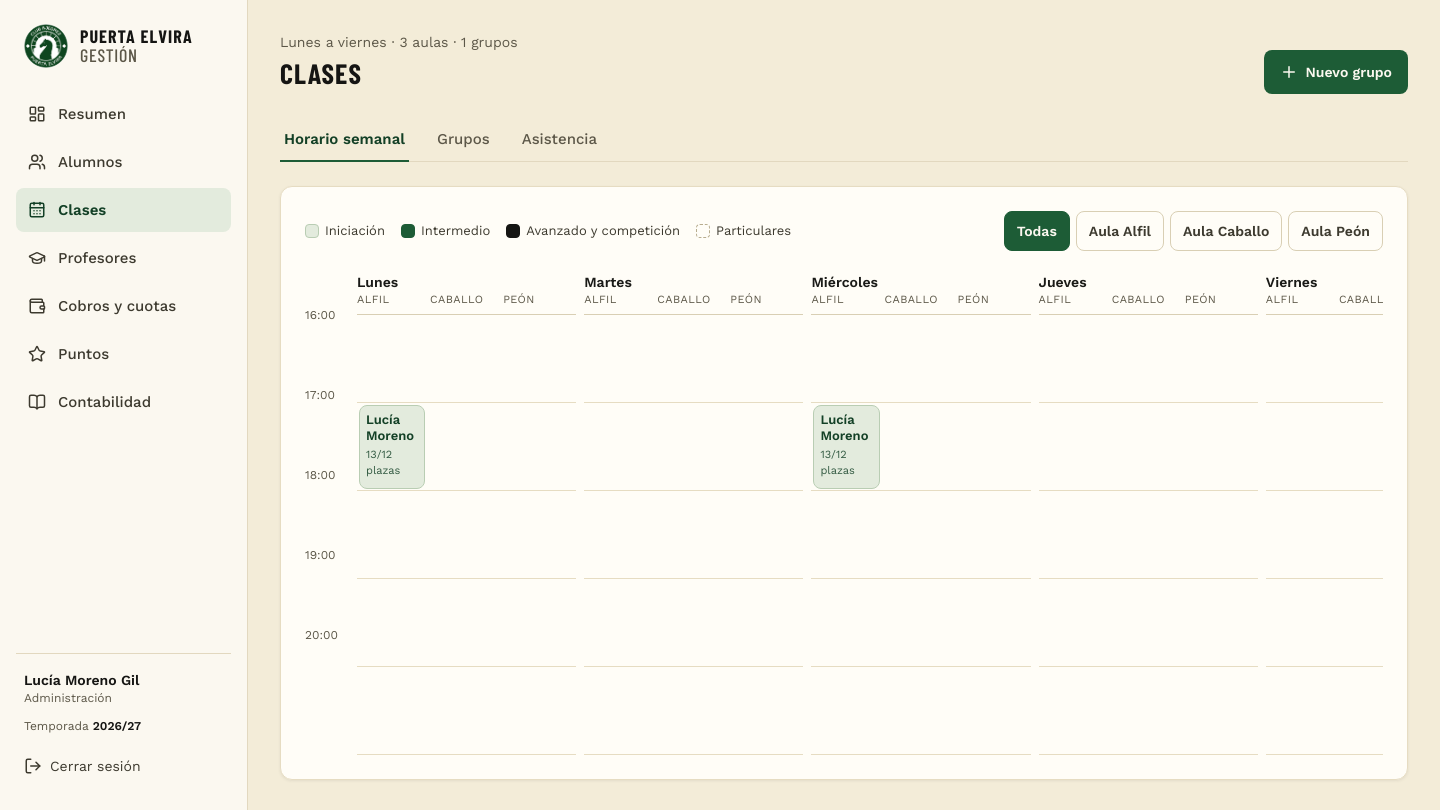
it: Clases › should list groups with level, schedule, plan and an over capacity warning
What coordinates should you click on to do the following:
click the tab "Grupos"
I would click on:
 (463, 140)
Its box is [433,118,494,162].
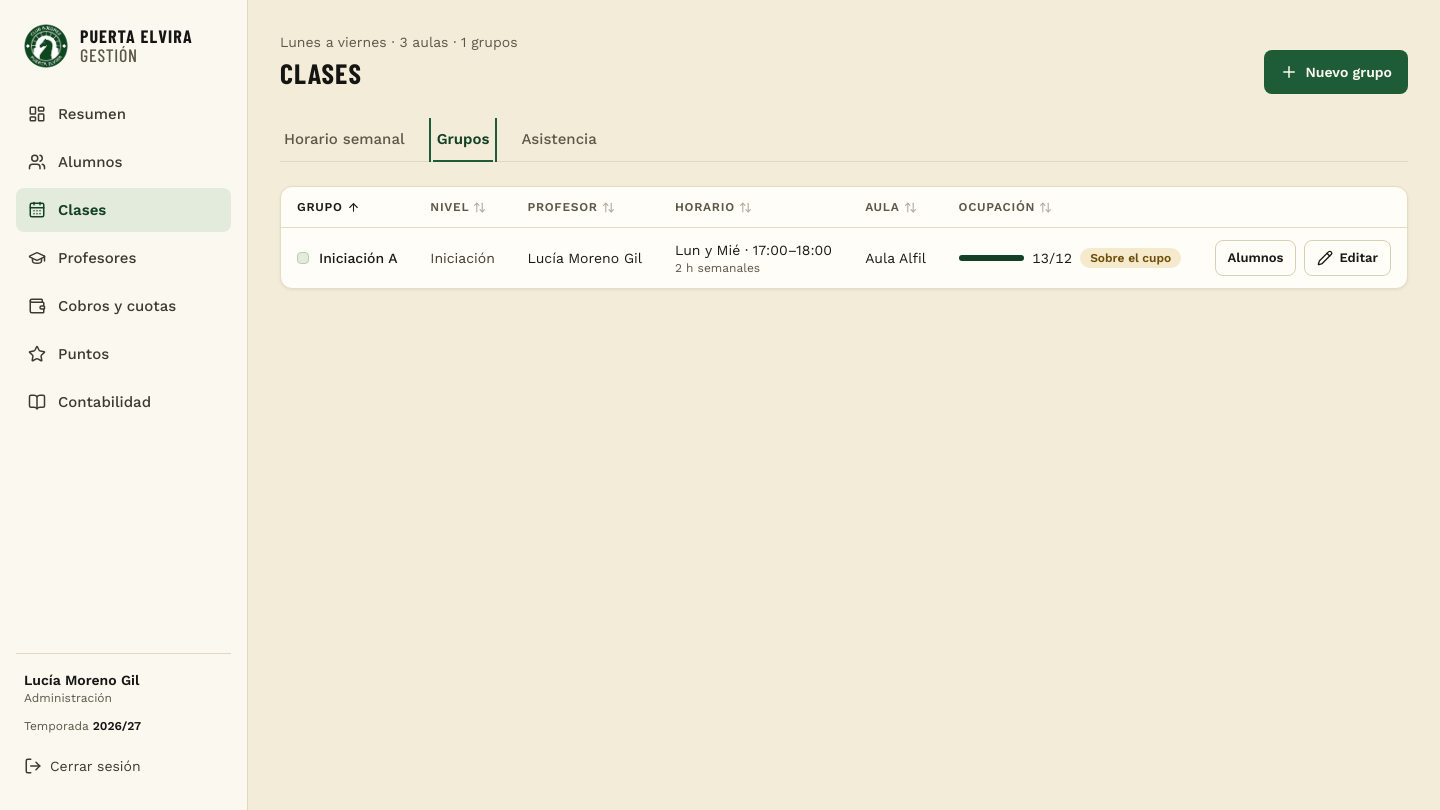
Result: the text "Iniciación" is shown at [414,228,512,288]
Result: the text "2 h semanales" is shown at [675,261,760,275]
Result: the text "Sobre el cupo" is shown at [1080,248,1181,268]
